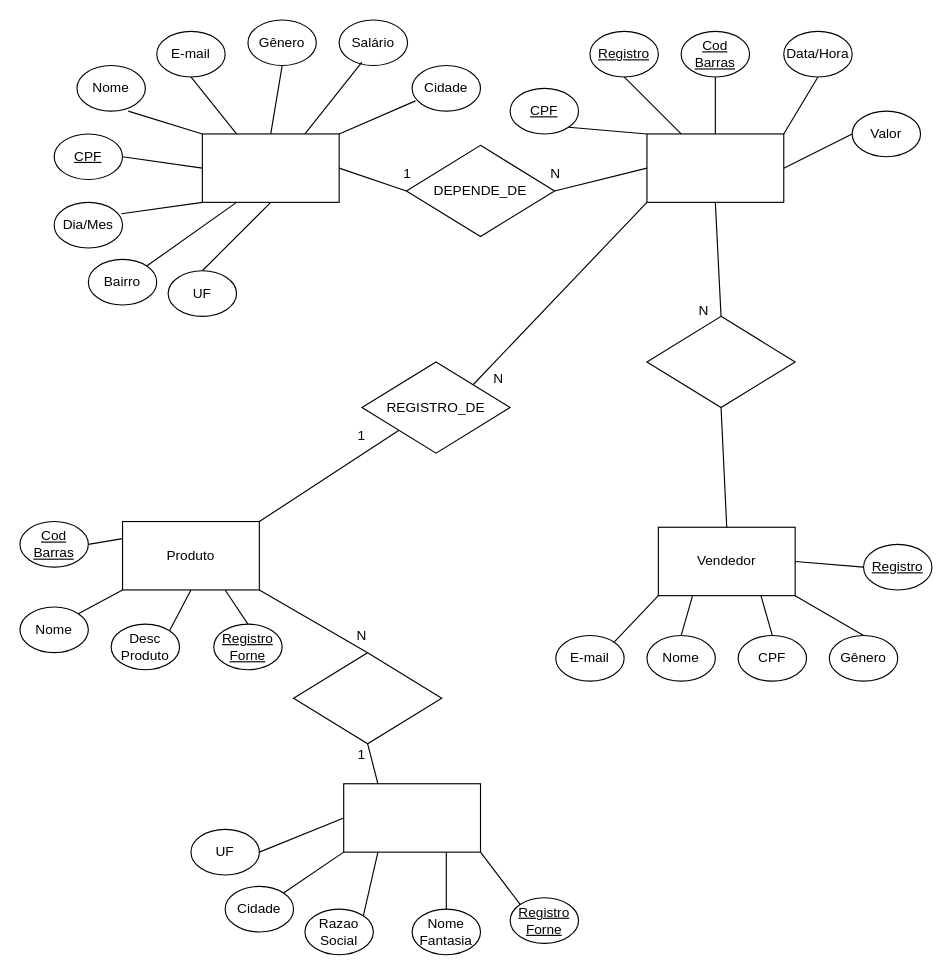
The diagram is 952 pixels wide and 975 high, and some of its shapes have lost their labels. Each missing label, with the centre of its shape:
"Cliente" belongs at point 270,167.
"Fornecedor" belongs at point 412,817.
"REALIZA" belongs at point 720,361.
"Venda" belongs at point 715,167.
"VENDE" belongs at point 367,698.
